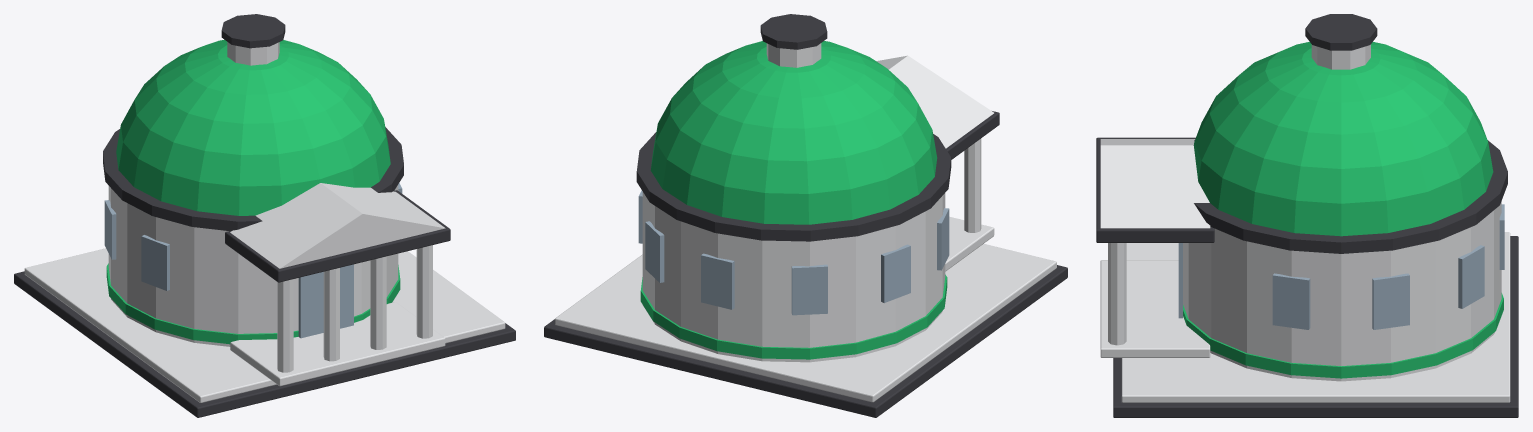
The model's file is dome.glb.
The picture shows the model from 3 angles, left to right: view 1: azimuth 30°, elevation 25°; view 2: azimuth 150°, elevation 25°; view 3: azimuth 270°, elevation 25°; orthographic projection. The views are drawn at different scales.
Parts seen in each view (by area): view 1: dome; view 2: dome; view 3: dome.
Boxes of the visible parts, x1,y1,x2,y2 form: dome: (14, 14, 515, 417); dome: (544, 14, 1067, 417); dome: (1096, 14, 1518, 417).
Size of the model in its own units: 9.6 by 7.95 by 10.
